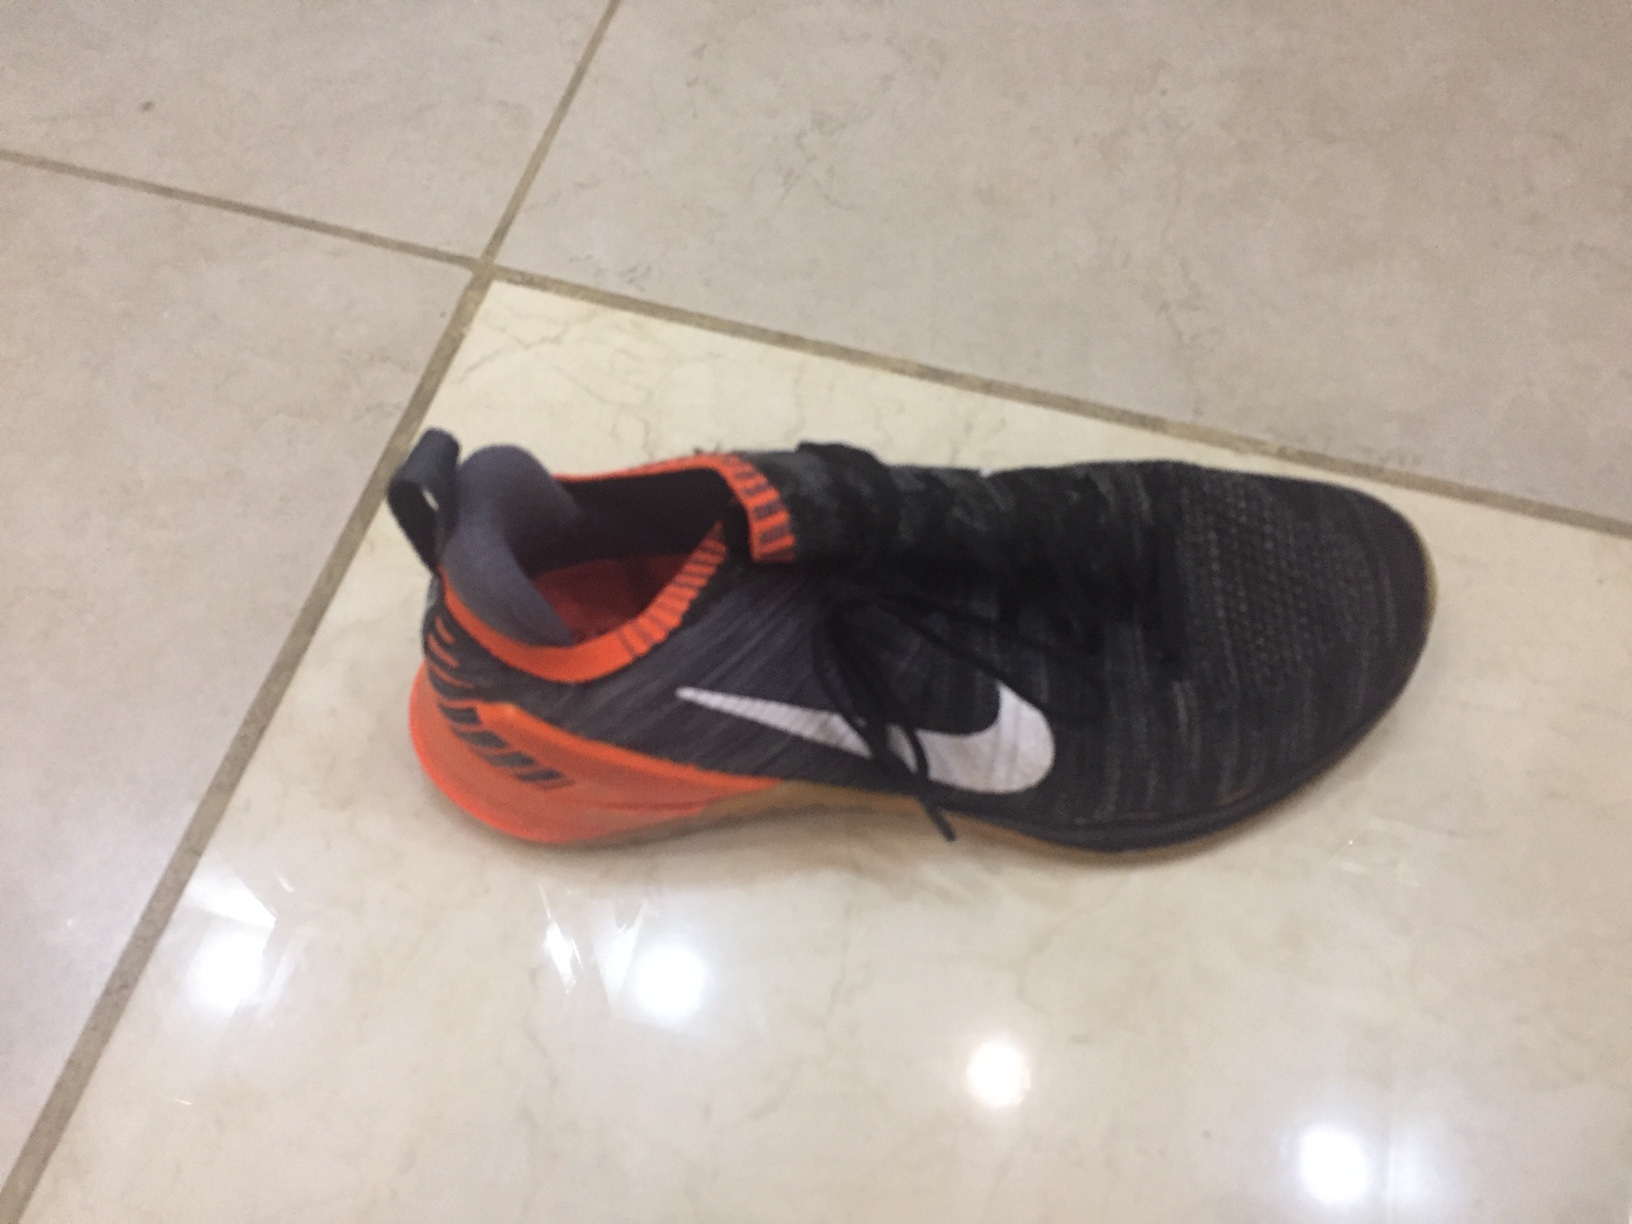car: (374, 414, 1498, 874)
